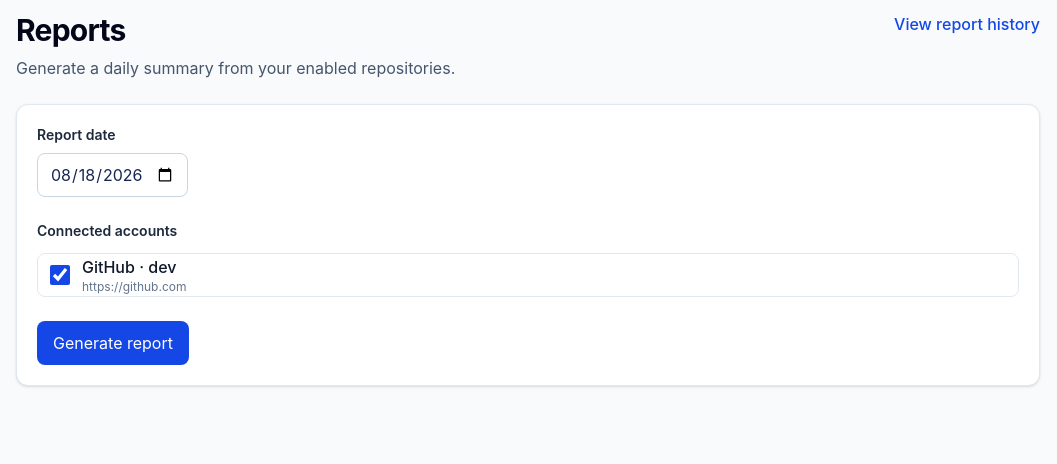
Test case: reports page › shows the concurrent generation error from the backend
This screenshot has width=1057, height=464.
Click the button "Generate report" at (113, 343), box left=37, top=321, right=189, bottom=365
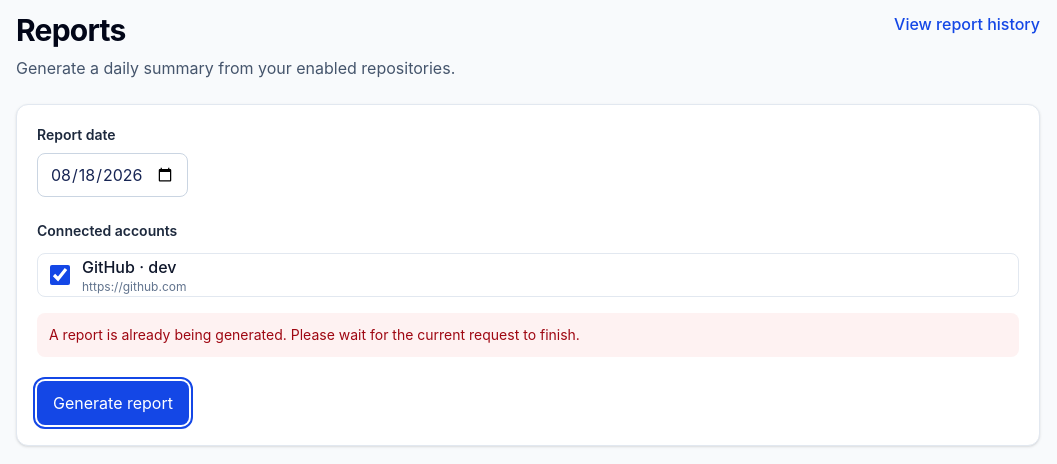
Expected: the text "already being generated" is shown, left=49, top=326, right=580, bottom=343
